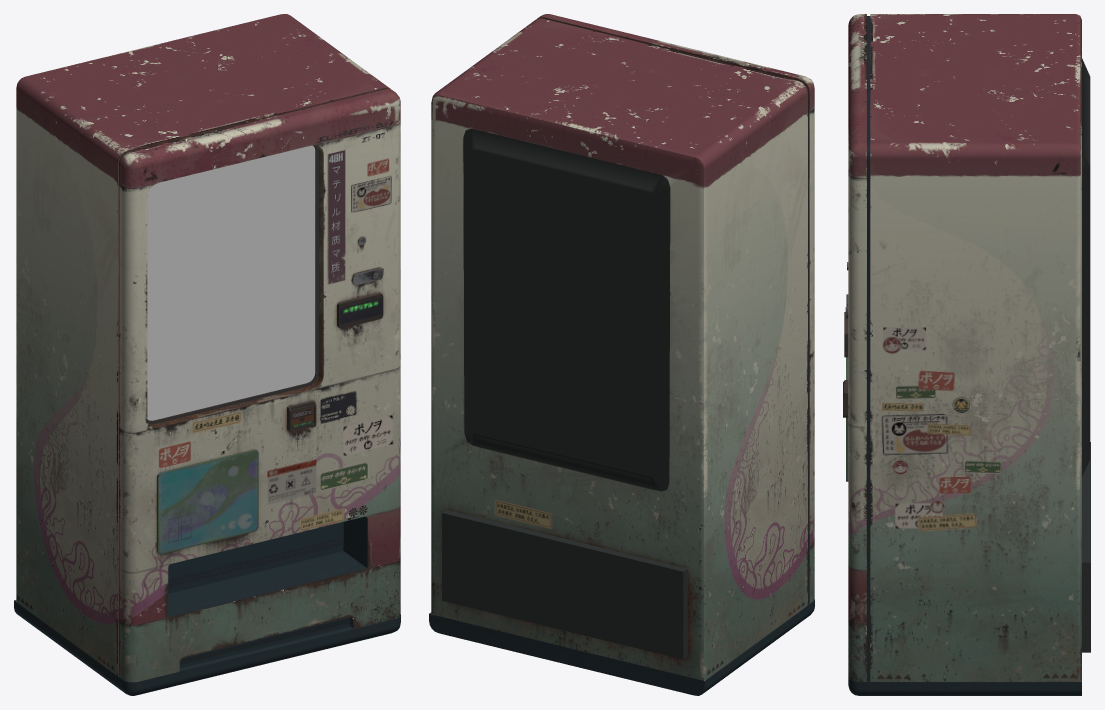
3 renders of one model, left to right at view 1: azimuth 30°, elevation 25°; view 2: azimuth 150°, elevation 25°; view 3: azimuth 270°, elevation 25°, orthographic. The views are drawn at different scales.
Visible parts, largest first — view 1: VendingMachine_01, VendingGlass_01; view 2: VendingMachine_01; view 3: VendingMachine_01.
Part boxes in pixels (bbox=[...]): VendingMachine_01: bbox=[14, 14, 400, 695]; VendingGlass_01: bbox=[147, 145, 315, 420]; VendingMachine_01: bbox=[429, 14, 814, 695]; VendingMachine_01: bbox=[843, 14, 1090, 695].
Size of the model in its own units: 0.9518 by 1.78 by 0.7247.
